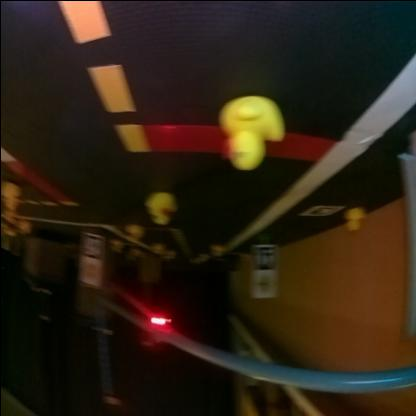Duckie: (218, 96, 282, 169), (145, 192, 176, 222), (1, 184, 16, 209)
Intersection sign: (252, 272, 273, 296)
QR code: (252, 244, 274, 272), (301, 204, 342, 216), (80, 235, 100, 257)
Traffic light: (146, 312, 170, 340)
